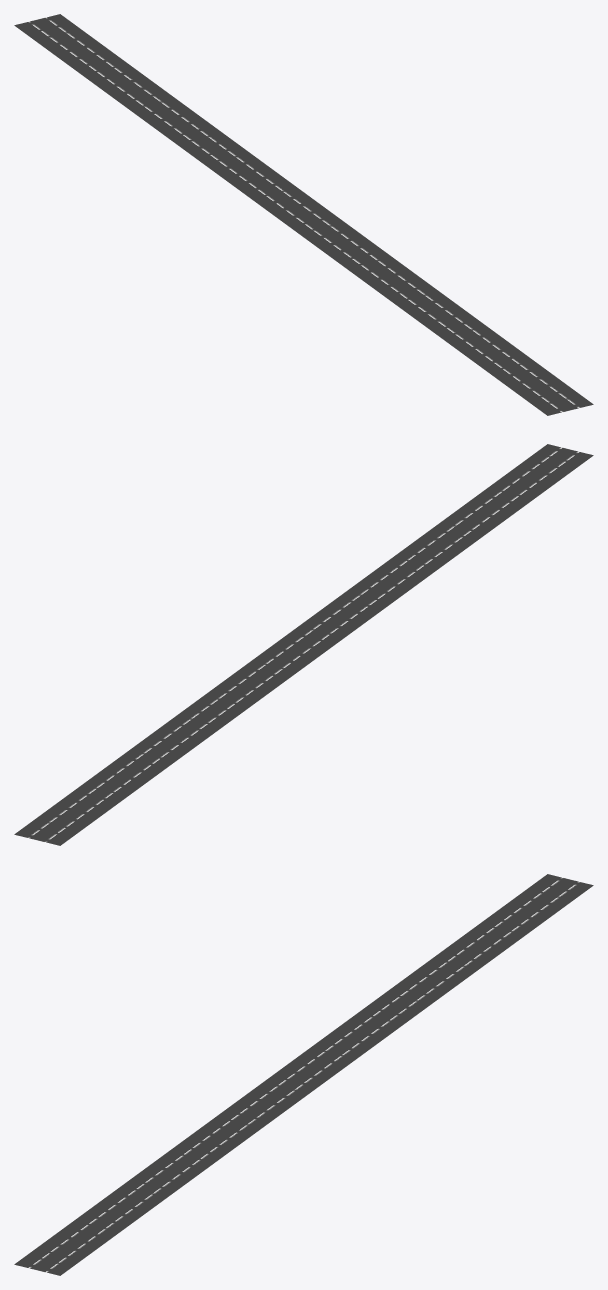
The model's file is S9 Road new cuts.fbx.
The picture shows the model from 3 angles, top to bottom: view 1: azimuth 30°, elevation 25°; view 2: azimuth 150°, elevation 25°; view 3: azimuth 330°, elevation 25°; orthographic projection.
Visible parts, largest first — view 1: pPlane9, pPlane10; view 2: pPlane9, pPlane10; view 3: pPlane9, pPlane10.
Boxes of the visible parts, left/top/right/bottom form: pPlane9: left=184, top=138, right=593, bottom=415; pPlane10: left=14, top=14, right=232, bottom=149; pPlane9: left=184, top=444, right=593, bottom=721; pPlane10: left=14, top=710, right=229, bottom=845; pPlane9: left=14, top=999, right=423, bottom=1275; pPlane10: left=373, top=874, right=593, bottom=1009.
Size of the model in its own units: 9.46 by 0 by 189.
1 material, 1 textured.
